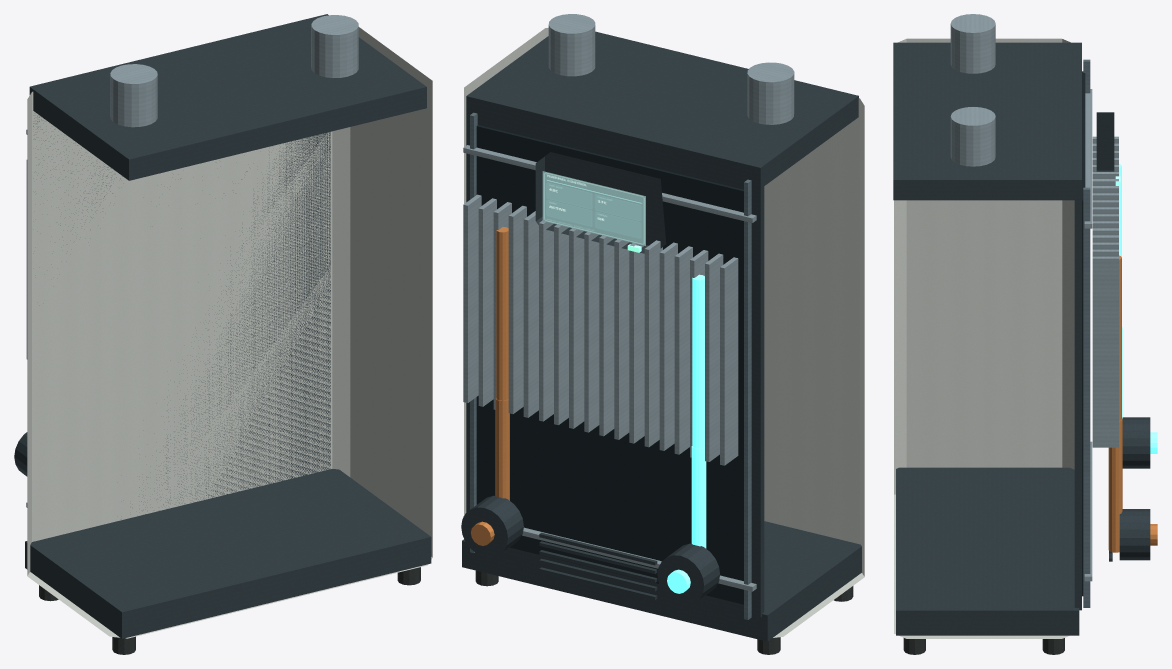
Rendered from thermal_control_unit.glb.
3 views of the same model, side by side, from view 1: azimuth 30°, elevation 25°; view 2: azimuth 150°, elevation 25°; view 3: azimuth 270°, elevation 25° (orthographic). The views are drawn at different scales.
Visible parts, largest first — view 1: static__shell, static__graphite, front_frame__graphite, Loop_Couplers__alloy, feet__rubber; view 2: Heat_Exchanger_Fins__alloy, static__graphite, static__shell, interior__carbon, front_frame__graphite, Loop_Couplers__alloy, Display__ui_thermal, Circulation_Pumps__graphite, static__trim, Display__graphite, Coolant_Pipes__cyan, Coolant_Pipes__amber (+3 smaller); view 3: static__graphite, static__shell, Heat_Exchanger_Fins__alloy, Loop_Couplers__alloy, static__trim, front_frame__graphite, Circulation_Pumps__graphite, Coolant_Pipes__amber, static__alloy, interior__carbon, Display__graphite, feet__rubber.
Boxes of the visible parts, <box> form: static__shell: <box>27,27,432,638</box>; static__graphite: <box>25,14,431,638</box>; front_frame__graphite: <box>33,116,330,510</box>; Loop_Couplers__alloy: <box>110,15,358,127</box>; feet__rubber: <box>39,567,420,654</box>; Heat_Exchanger_Fins__alloy: <box>463,194,738,465</box>; static__graphite: <box>462,31,861,641</box>; static__shell: <box>464,27,864,637</box>; interior__carbon: <box>476,125,743,604</box>; front_frame__graphite: <box>466,112,764,617</box>; Loop_Couplers__alloy: <box>548,14,794,124</box>; Display__ui_thermal: <box>542,171,645,245</box>; Circulation_Pumps__graphite: <box>461,495,719,605</box>; static__trim: <box>470,112,751,619</box>; Display__graphite: <box>535,152,666,253</box>; Coolant_Pipes__cyan: <box>691,274,706,548</box>; Coolant_Pipes__amber: <box>495,227,509,500</box>; static__graphite: <box>893,42,1081,635</box>; static__shell: <box>894,38,1074,638</box>; Heat_Exchanger_Fins__alloy: <box>1092,136,1118,447</box>; Loop_Couplers__alloy: <box>950,14,995,166</box>; static__trim: <box>1083,59,1090,607</box>; front_frame__graphite: <box>1074,194,1081,610</box>; Circulation_Pumps__graphite: <box>1119,417,1150,560</box>; Coolant_Pipes__amber: <box>1108,255,1122,552</box>; static__alloy: <box>1084,89,1092,581</box>; interior__carbon: <box>1082,71,1085,596</box>; Display__graphite: <box>1096,112,1114,171</box>; feet__rubber: <box>903,638,1064,654</box>.
Size of the model in its own units: 1.27 by 2.04 by 0.95.
Materials: 10 (10 with a texture image).
